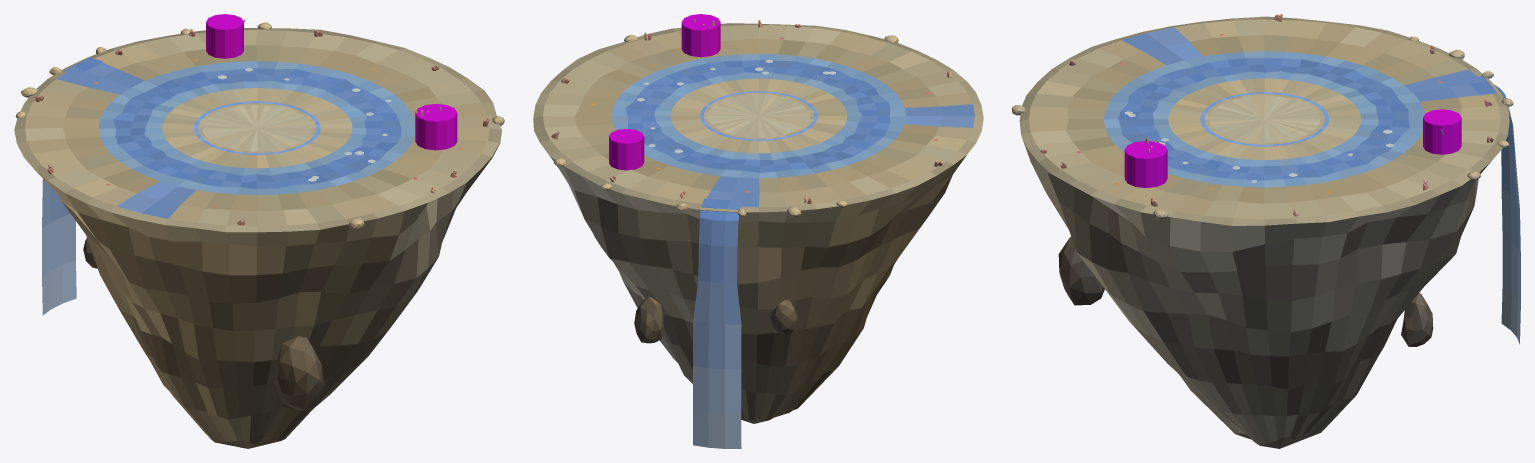
Rendered from isle_home_water.glb.
The picture shows the model from 3 angles, left to right: view 1: azimuth 30°, elevation 25°; view 2: azimuth 150°, elevation 25°; view 3: azimuth 270°, elevation 25°; orthographic projection. The views are drawn at different scales.
Visible parts, largest first — view 1: isle_home_water, waterfall, col_coral_a, col_coral_b; view 2: isle_home_water, waterfall, col_coral_a, col_coral_b; view 3: isle_home_water, waterfall, col_coral_a, col_coral_b.
Part boxes in pixels (x1,y1,x2,y2): isle_home_water: (14, 19, 504, 448); waterfall: (42, 57, 103, 315); col_coral_a: (415, 104, 457, 150); col_coral_b: (206, 14, 243, 58); isle_home_water: (533, 19, 983, 423); waterfall: (693, 198, 742, 448); col_coral_a: (681, 14, 720, 57); col_coral_b: (609, 129, 644, 170); isle_home_water: (1012, 14, 1513, 448); waterfall: (1465, 76, 1520, 344); col_coral_a: (1124, 141, 1167, 187); col_coral_b: (1423, 109, 1461, 154).
Size of the model in its own units: 46.02 by 37.51 by 47.43.
